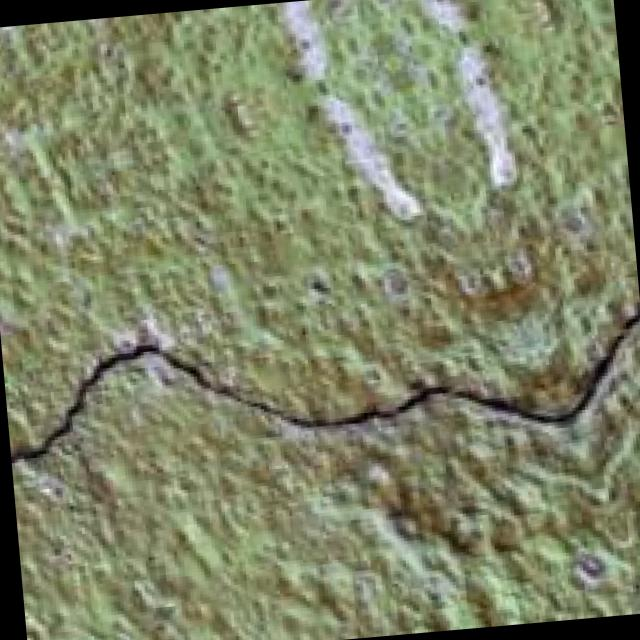crack: (0, 257, 640, 542)
